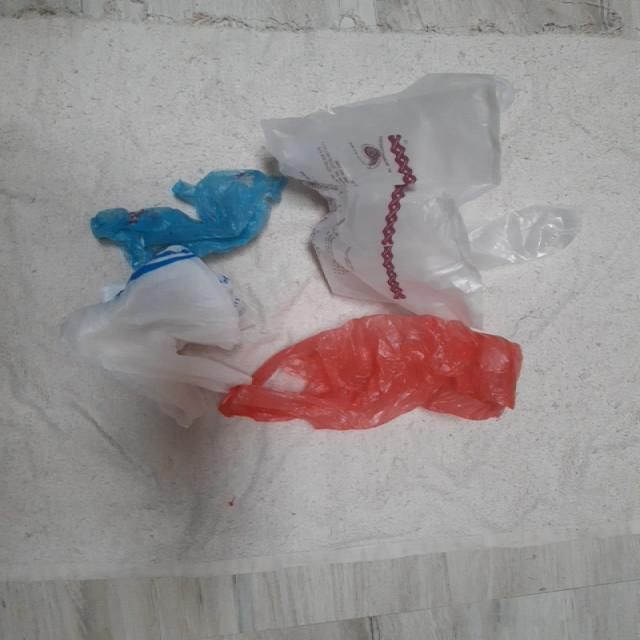Single-layer Plastic: (262, 74, 576, 328), (219, 315, 521, 429), (62, 245, 250, 427), (91, 170, 286, 269)
